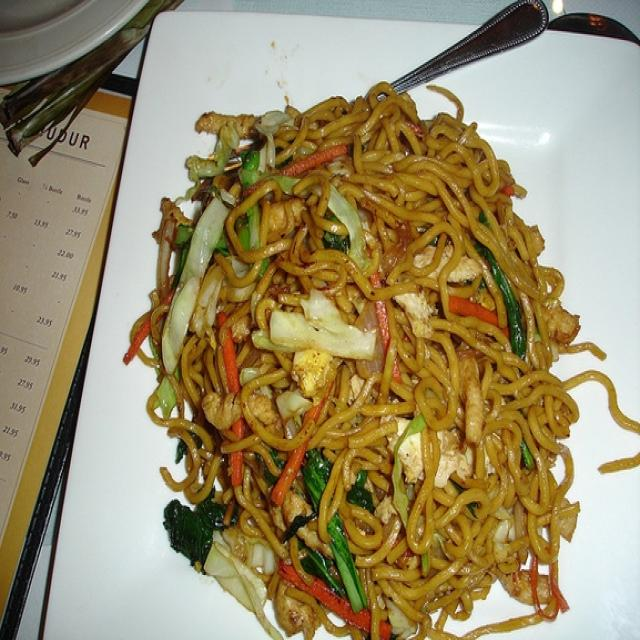面条主食: (123, 68, 601, 621)
